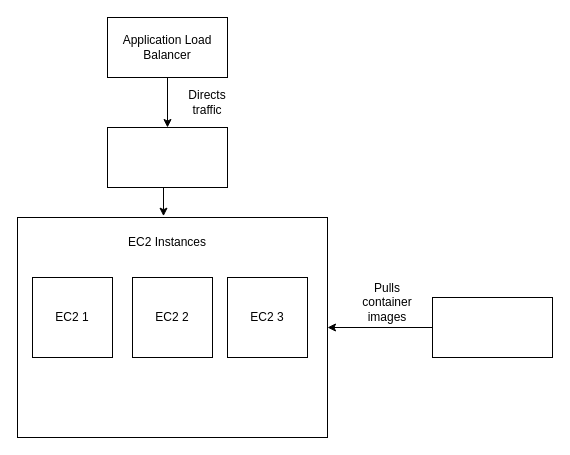
This 570x455 diagram has some shape labels left out. Here are the shapes that lost their labels. From the top down, the box of each, then its label:
(106, 126, 228, 188): Auto Scaling Group
(432, 296, 552, 358): ECR
